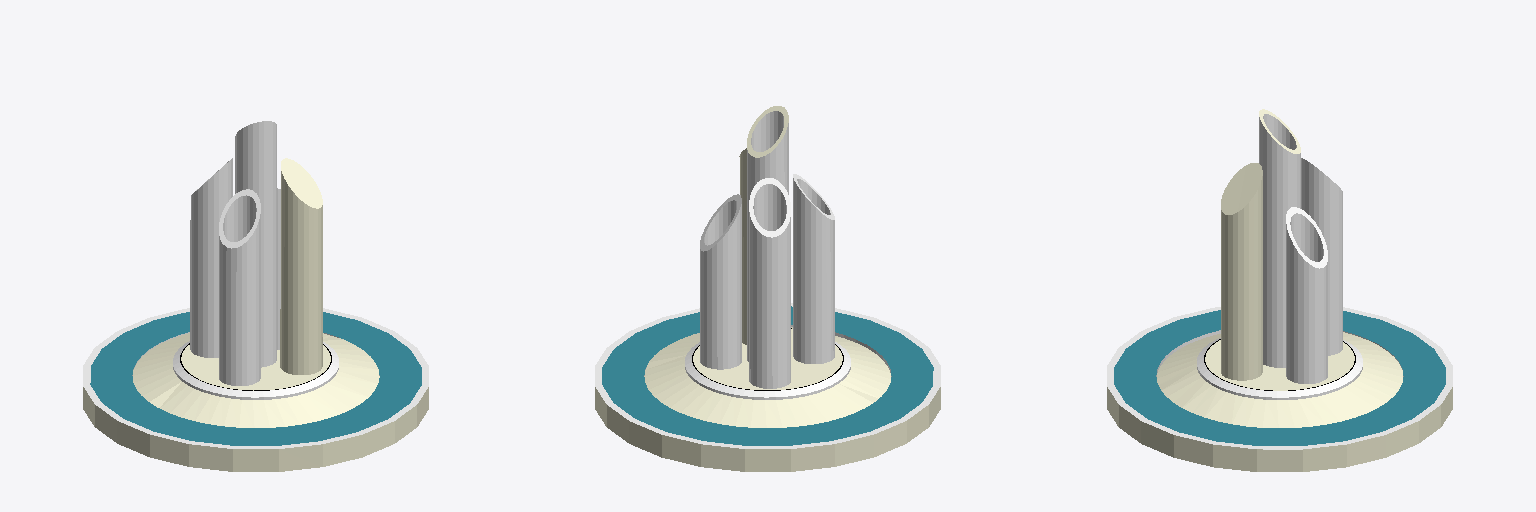
Rendered from TUGU+BAMBU+RUNCING.obj.
3 views of the same model, side by side, from view 1: azimuth 30°, elevation 25°; view 2: azimuth 150°, elevation 25°; view 3: azimuth 270°, elevation 25° (orthographic).
Visible parts, largest first — view 1: Mesh2 Model; view 2: Mesh2 Model; view 3: Mesh2 Model.
Part boxes in pixels (x1,y1,x2,y2): Mesh2 Model: (83,121,428,471); Mesh2 Model: (595,106,940,471); Mesh2 Model: (1107,109,1452,471).
Size of the model in its own units: 1342 by 1223 by 1342.